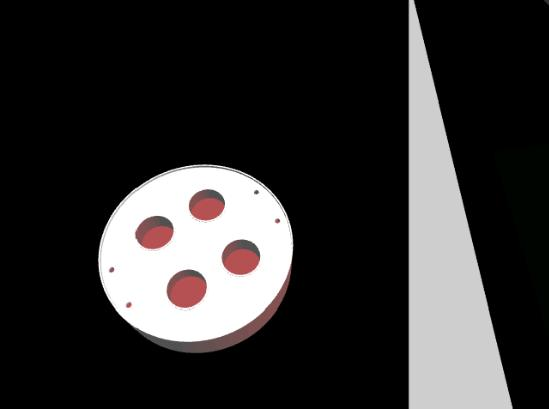hole: (218, 232, 266, 283), (162, 270, 212, 311), (131, 211, 177, 254), (188, 187, 226, 228)
